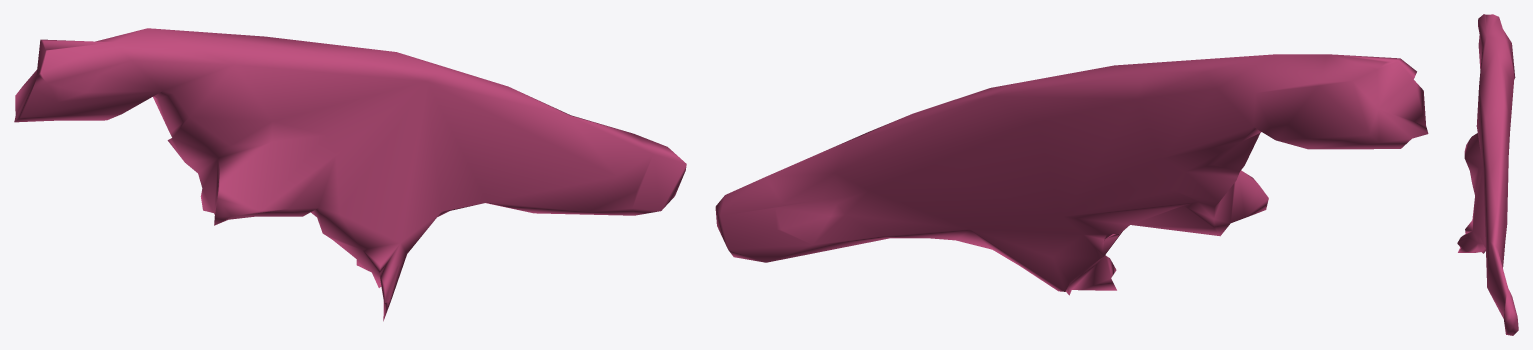
The picture shows the model from 3 angles, left to right: view 1: azimuth 30°, elevation 25°; view 2: azimuth 150°, elevation 25°; view 3: azimuth 270°, elevation 25°; orthographic projection. The views are drawn at different scales.
Visible parts, largest first — view 1: 右侧踇收肌横头; view 2: 右侧踇收肌横头; view 3: 右侧踇收肌横头.
Part boxes in pixels (left/top/right/bottom): 右侧踇收肌横头: left=14, top=28, right=686, bottom=321; 右侧踇收肌横头: left=715, top=54, right=1428, bottom=295; 右侧踇收肌横头: left=1457, top=14, right=1518, bottom=335.
Bounding box in the file's own units: 0.071 × 0.033 × 0.011.
